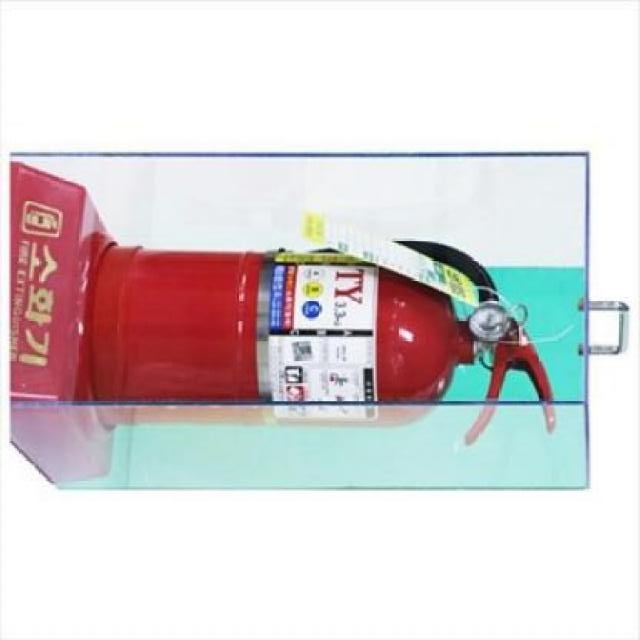fire extinguisher: (91, 239, 557, 445)
